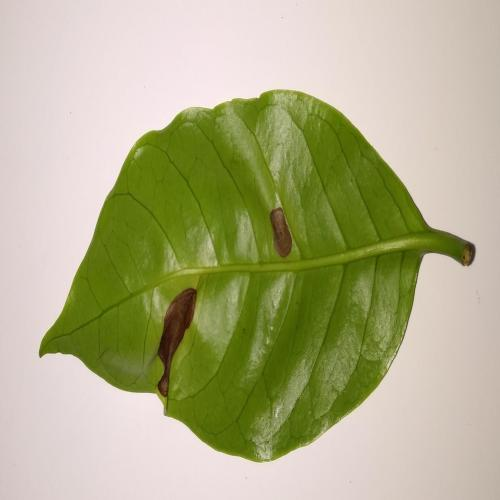miner: (270, 206, 292, 258)
